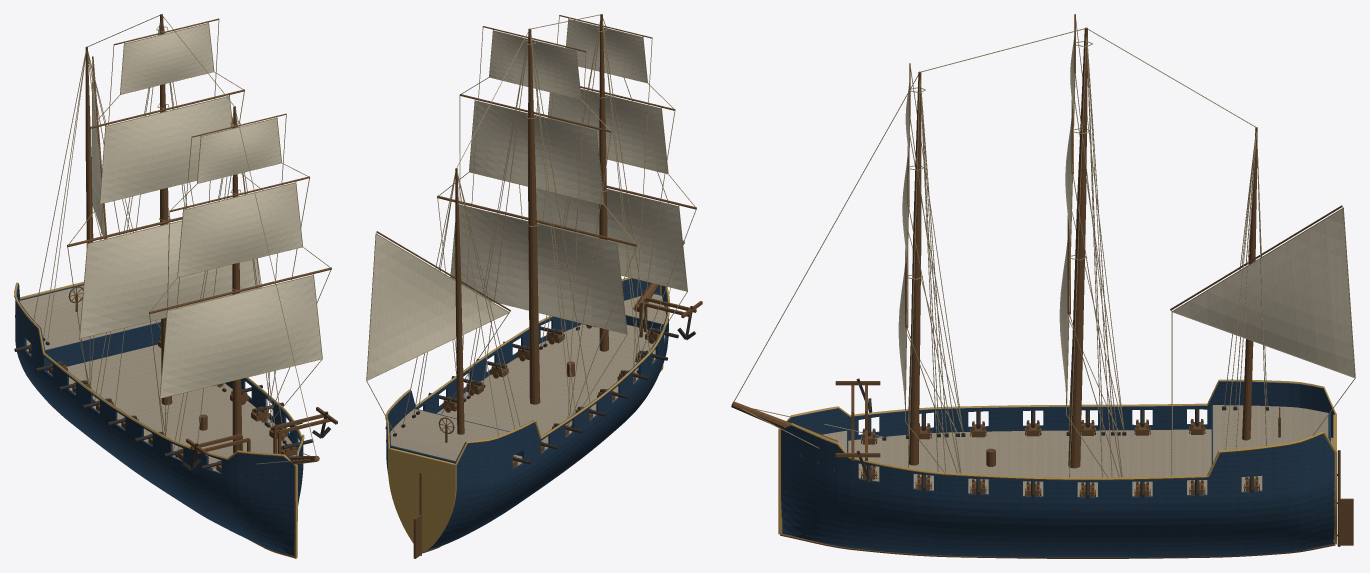
The picture shows the model from 3 angles, left to right: view 1: azimuth 30°, elevation 25°; view 2: azimuth 150°, elevation 25°; view 3: azimuth 270°, elevation 25°; orthographic projection. The views are drawn at different scales.
Visible parts, largest first — view 1: lod1_hull_shell_starboard, lod1_fore_square_00, lod1_main_square_00, lod1_main_deck, lod1_main_square_01, lod1_fore_square_01, lod1_main_square_02, lod1_fore_square_02, lod1_castle_deck_0, lod1_castle_bulkhead_0_1, lod1_hull_shell_port, lod1_mizzen (+7 smaller); view 2: lod1_main_square_00, lod1_hull_shell_starboard, lod1_main_deck, lod1_mizzen_lateen_00, lod1_main_square_01, lod1_fore_square_00, lod1_fore_square_01, lod1_stern_closure, lod1_main_square_02, lod1_castle_deck_0, lod1_fore_square_02, lod1_main (+16 smaller); view 3: lod1_hull_shell_port, lod1_mizzen_lateen_00, lod1_main_deck, lod1_hull_shell_starboard, lod1_main, lod1_castle_deck_0, lod1_fore, lod1_gunwale_port, lod1_mizzen, lod1_gunwale_starboard, lod1_keel, lod1_main_square_00.
Part boxes in pixels (x1,y1,x2,y2): lod1_hull_shell_starboard: [15, 283, 294, 555]; lod1_fore_square_00: [160, 276, 321, 397]; lod1_main_square_00: [80, 221, 259, 337]; lod1_main_deck: [26, 339, 292, 472]; lod1_main_square_01: [100, 96, 232, 203]; lod1_fore_square_01: [178, 183, 302, 276]; lod1_main_square_02: [120, 23, 213, 93]; lod1_fore_square_02: [197, 118, 281, 182]; lod1_castle_deck_0: [19, 285, 160, 349]; lod1_castle_bulkhead_0_1: [45, 322, 160, 371]; lod1_hull_shell_port: [225, 378, 303, 505]; lod1_mizzen: [85, 47, 93, 247]; lod1_main_square_00: [451, 205, 626, 333]; lod1_hull_shell_starboard: [426, 285, 668, 550]; lod1_main_deck: [437, 324, 665, 466]; lod1_mizzen_lateen_00: [367, 234, 508, 379]; lod1_main_square_01: [469, 101, 603, 204]; lod1_fore_square_00: [536, 188, 687, 290]; lod1_fore_square_01: [548, 89, 667, 173]; lod1_stern_closure: [388, 448, 456, 552]; lod1_main_square_02: [489, 31, 580, 98]; lod1_castle_deck_0: [390, 409, 508, 460]; lod1_fore_square_02: [566, 19, 647, 82]; lod1_main: [528, 28, 540, 404]; lod1_hull_shell_port: [781, 425, 1334, 557]; lod1_mizzen_lateen_00: [1173, 209, 1354, 377]; lod1_main_deck: [848, 429, 1333, 496]; lod1_hull_shell_starboard: [787, 381, 1334, 440]; lod1_main: [1068, 27, 1087, 468]; lod1_castle_deck_0: [1213, 405, 1328, 461]; lod1_fore: [908, 71, 921, 465]; lod1_gunwale_port: [780, 423, 1336, 480]; lod1_mizzen: [1242, 127, 1257, 440]; lod1_gunwale_starboard: [786, 379, 1336, 421]; lod1_keel: [780, 533, 1335, 558]; lod1_main_square_00: [1059, 240, 1068, 398].
Bounding box in the file's own units: 13.03 × 28.52 × 30.4.
Materials: 7 (7 with a texture image).
